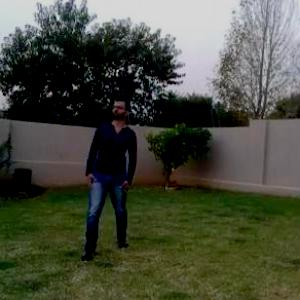follow: (80, 88, 139, 259)
